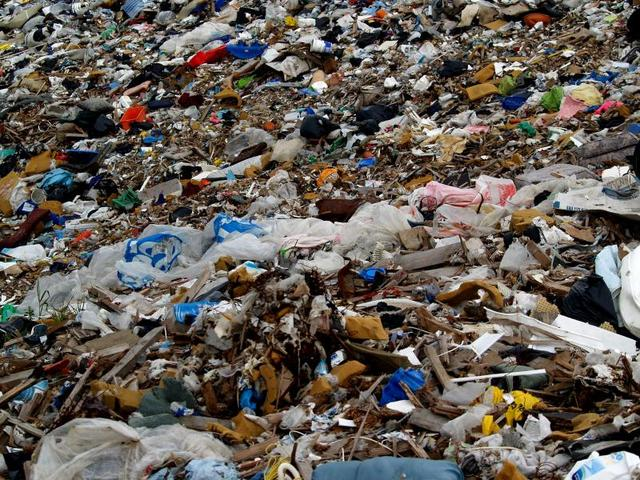garbage: (20, 28, 620, 464)
